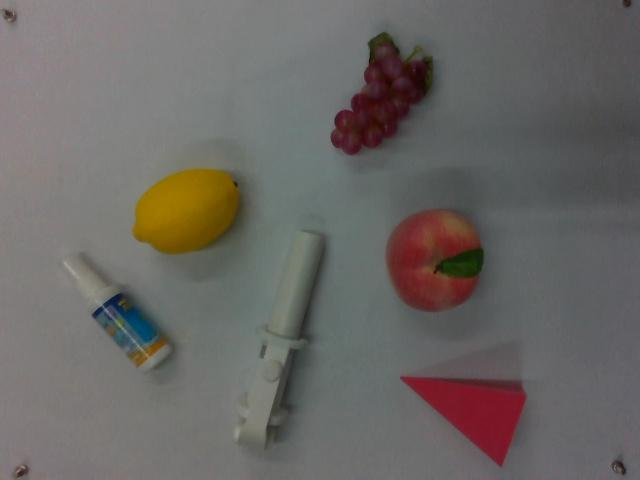detergent: (57, 249, 174, 378)
grape: (331, 33, 433, 160)
lemon: (132, 166, 240, 255)
peach: (385, 209, 483, 313)
pyramid: (401, 369, 528, 467)
selfiestick: (230, 225, 328, 452)
